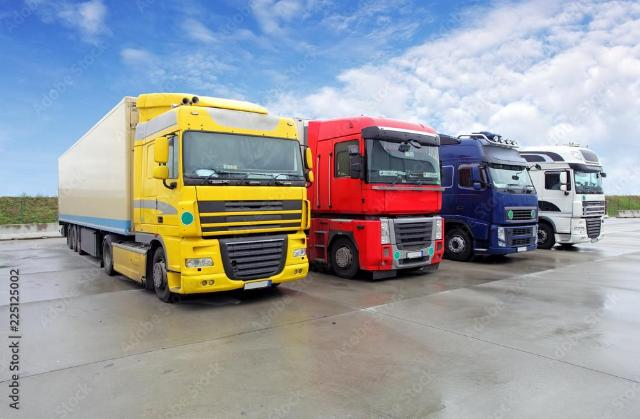truck: (35, 94, 315, 315)
